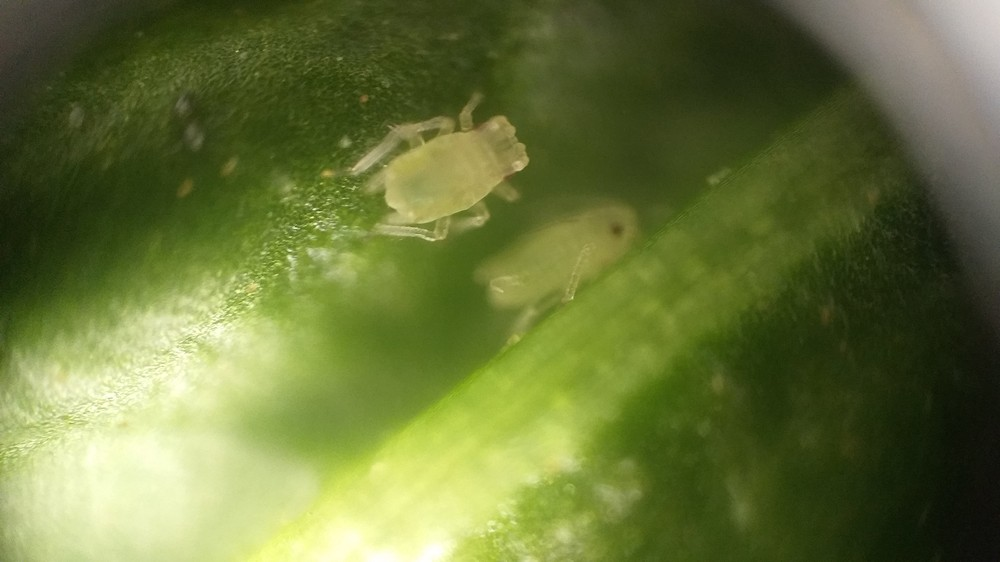Pulgon: (338, 86, 542, 245), (466, 193, 656, 338)
